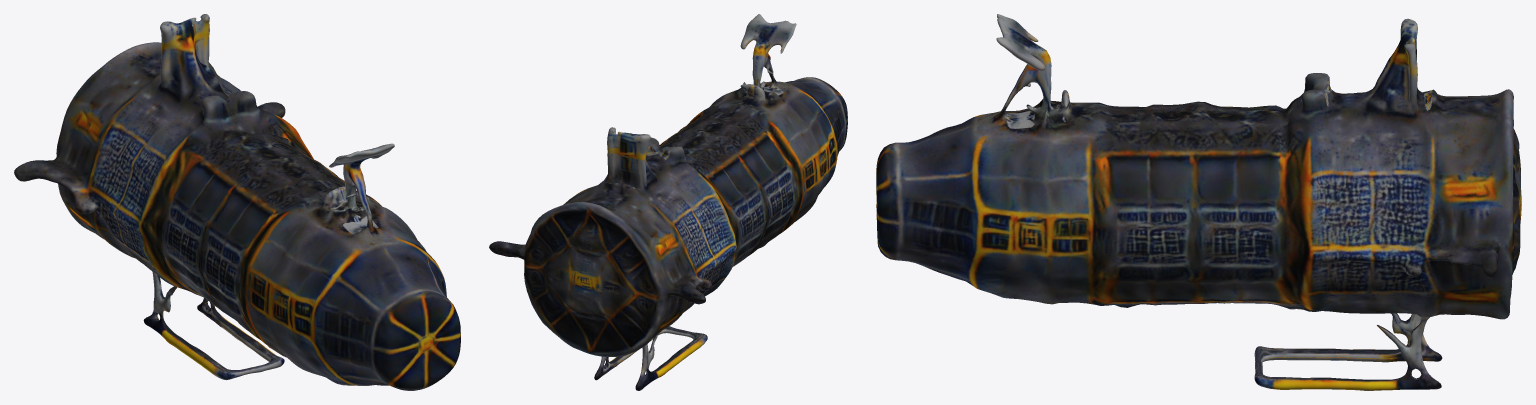
Rendered from 02b09b8d8455__miner____a_ship_ad.fbx.
3 views of the same model, side by side, from view 1: azimuth 30°, elevation 25°; view 2: azimuth 150°, elevation 25°; view 3: azimuth 270°, elevation 25° (orthographic). The views are drawn at different scales.
Parts seen in each view (by area): view 1: mesh; view 2: mesh; view 3: mesh.
Part boxes in pixels (x1,y1,x2,y2): mesh: (14,14,460,390); mesh: (489,14,847,390); mesh: (876,14,1521,390).
Bounding box in the file's own units: 53.58 × 59.73 × 99.96.
